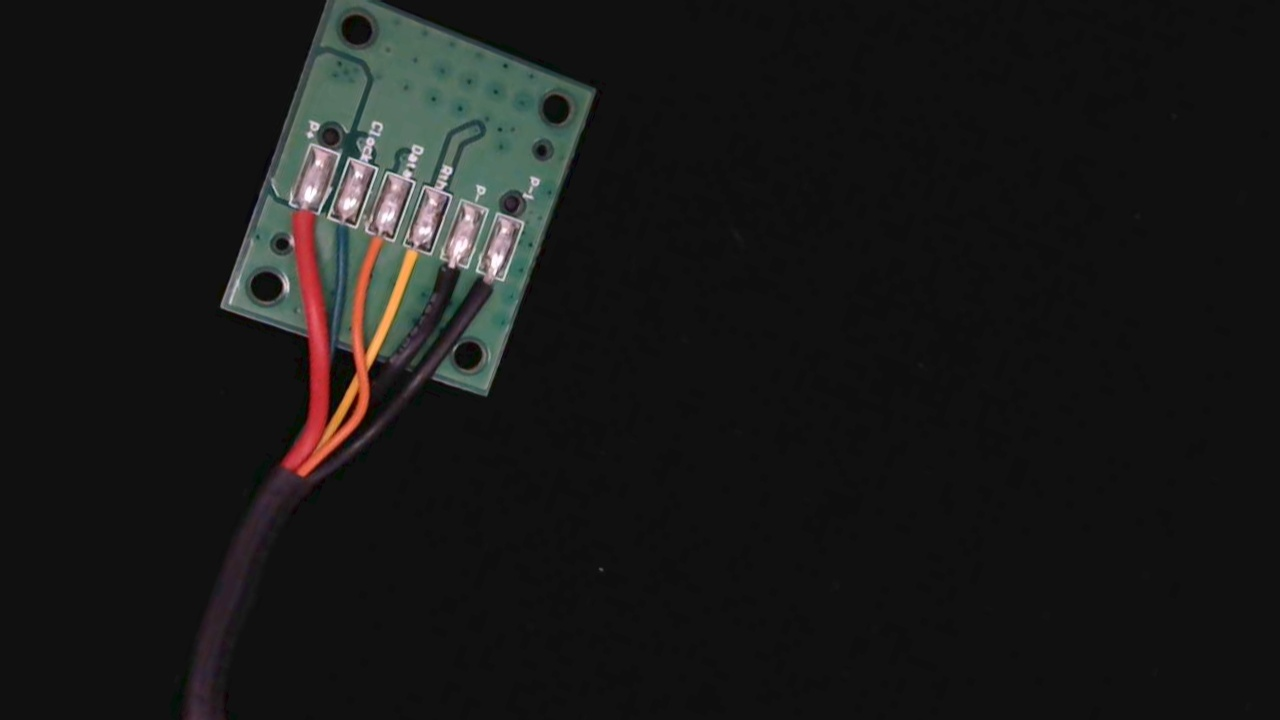Black: (417, 238, 474, 319)
Black1: (457, 255, 511, 329)
Green: (306, 196, 362, 274)
Orange: (347, 212, 402, 290)
Red: (270, 181, 326, 259)
Yellow: (380, 224, 437, 305)
